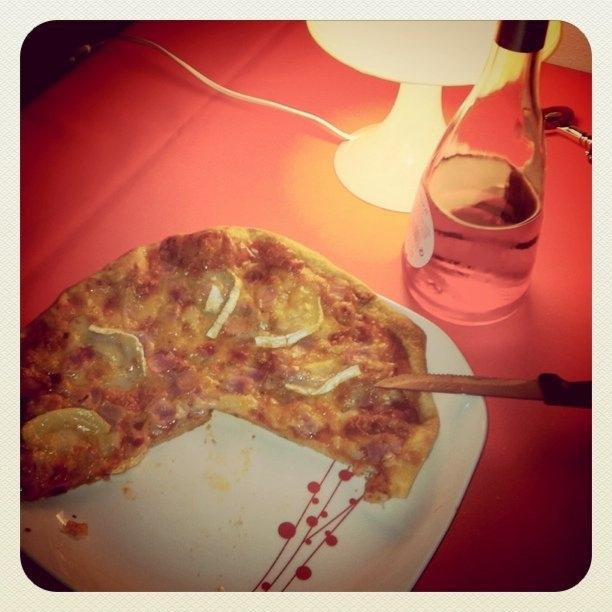mushroom: (22, 408, 121, 453), (89, 325, 146, 389), (255, 296, 323, 348), (203, 268, 243, 340), (134, 330, 154, 358)
